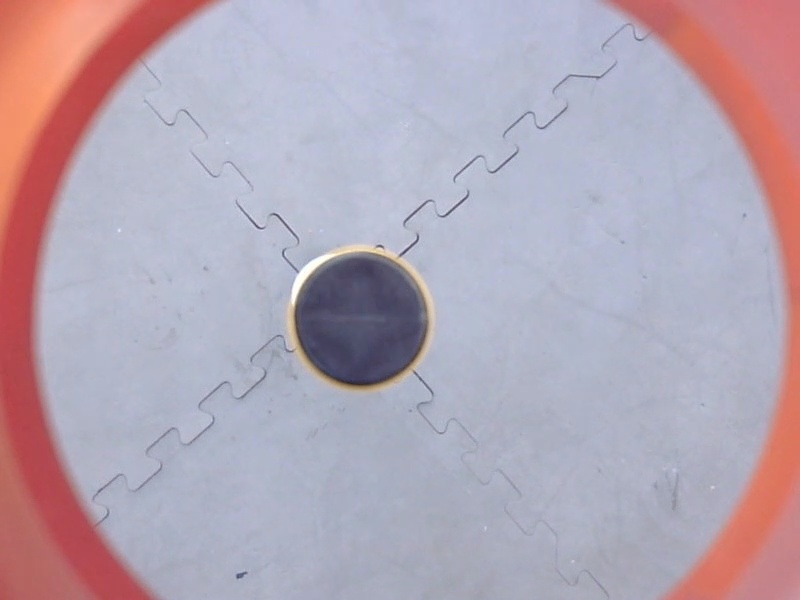tip: (280, 238, 445, 401)
